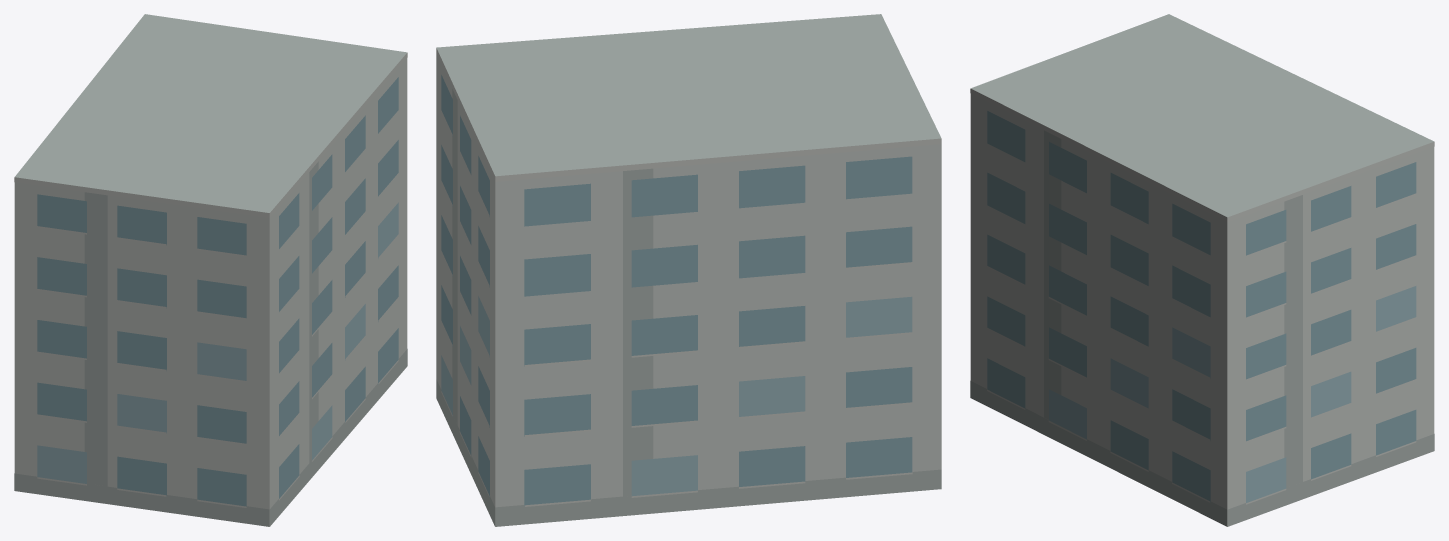
File: survey-upis-32695304.glb
3 views of the same model, side by side, from view 1: azimuth 30°, elevation 25°; view 2: azimuth 150°, elevation 25°; view 3: azimuth 270°, elevation 25° (orthographic). The views are drawn at different scales.
Parts seen in each view (by area): view 1: survey-upis-32695304.tmp; view 2: survey-upis-32695304.tmp; view 3: survey-upis-32695304.tmp.
Part boxes in pixels (bbox=[...]): survey-upis-32695304.tmp: bbox=[14, 14, 407, 526]; survey-upis-32695304.tmp: bbox=[436, 14, 941, 526]; survey-upis-32695304.tmp: bbox=[970, 14, 1434, 526].
Size of the model in its own units: 21.22 by 15.05 by 20.46.
